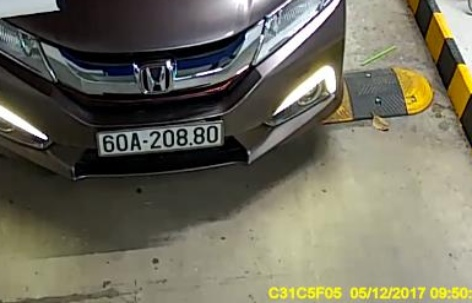plate: (91, 121, 240, 163)
